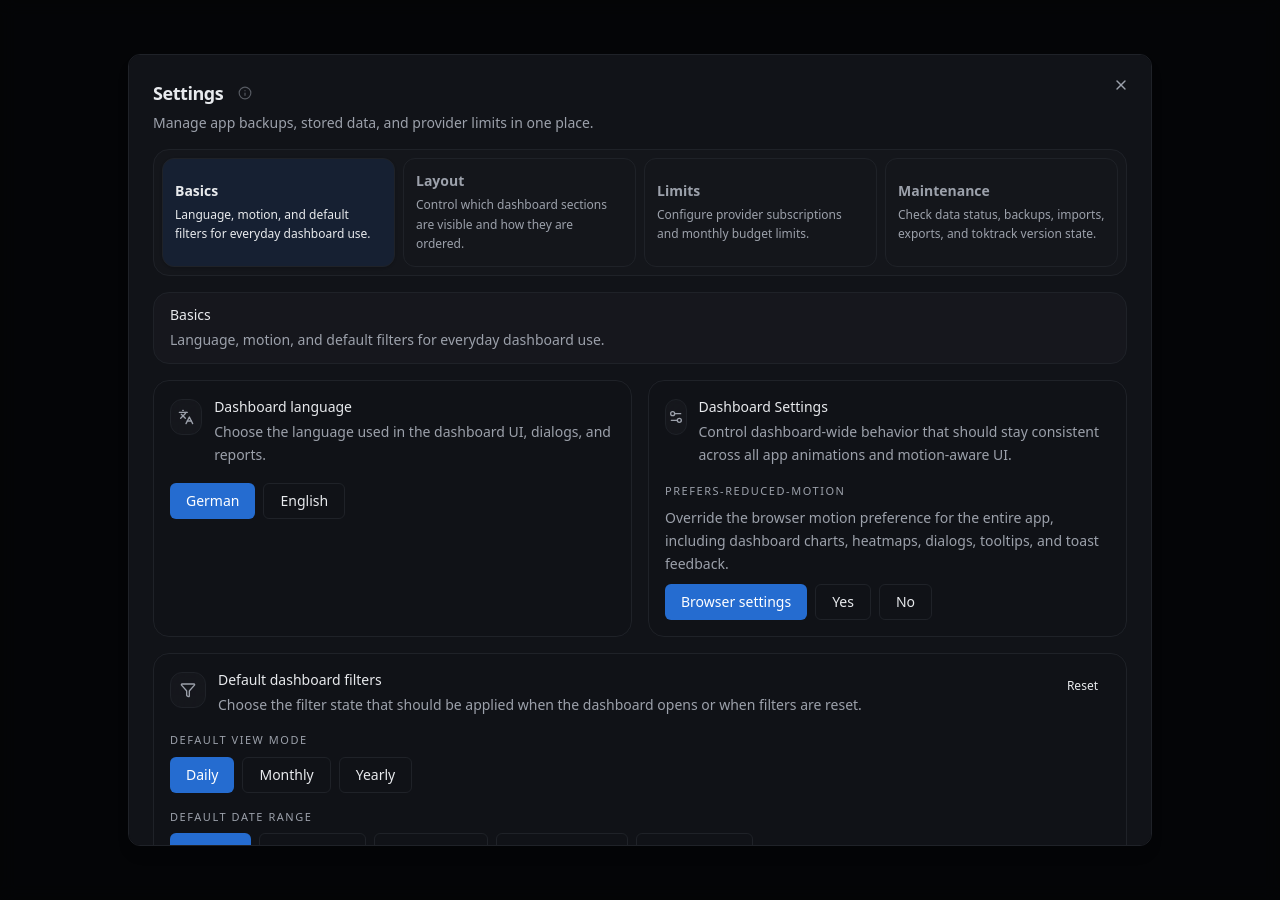
Scenario: SettingsModal provider limits › keeps subscription price typing local until blur commits the rounded value
The image size is (1280, 900).
Step 1. Click the tab "Limits" → (760, 212), box [644,158,877,266]
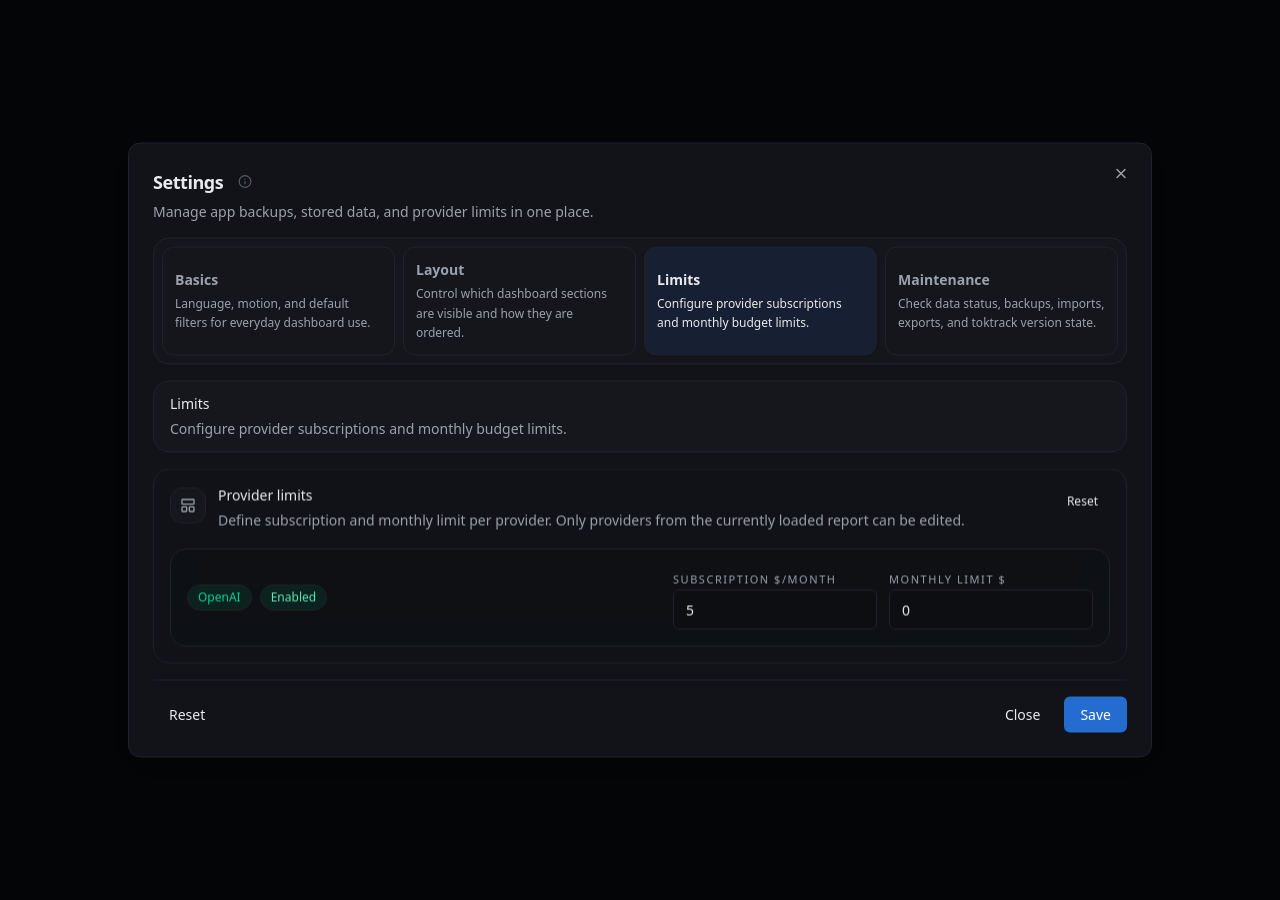
Expected: the element with test id "settings-provider-subscription-OpenAI" is shown, [170,548,1110,646]
Step 2. Replace the text in the number field with "1.234" → (775, 610), box [673,590,877,630]
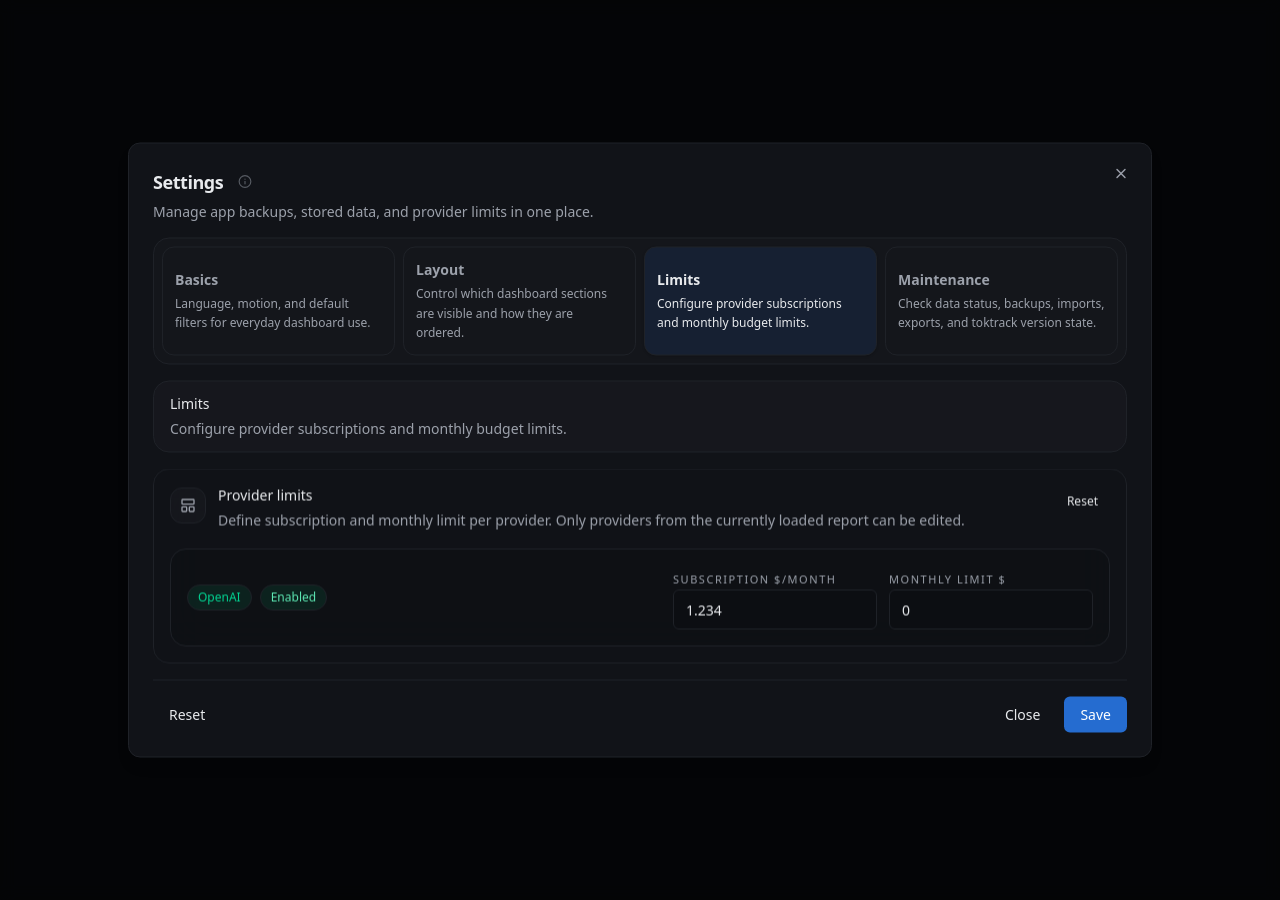
Step 3. Leave the number field, box [673,590,877,630]
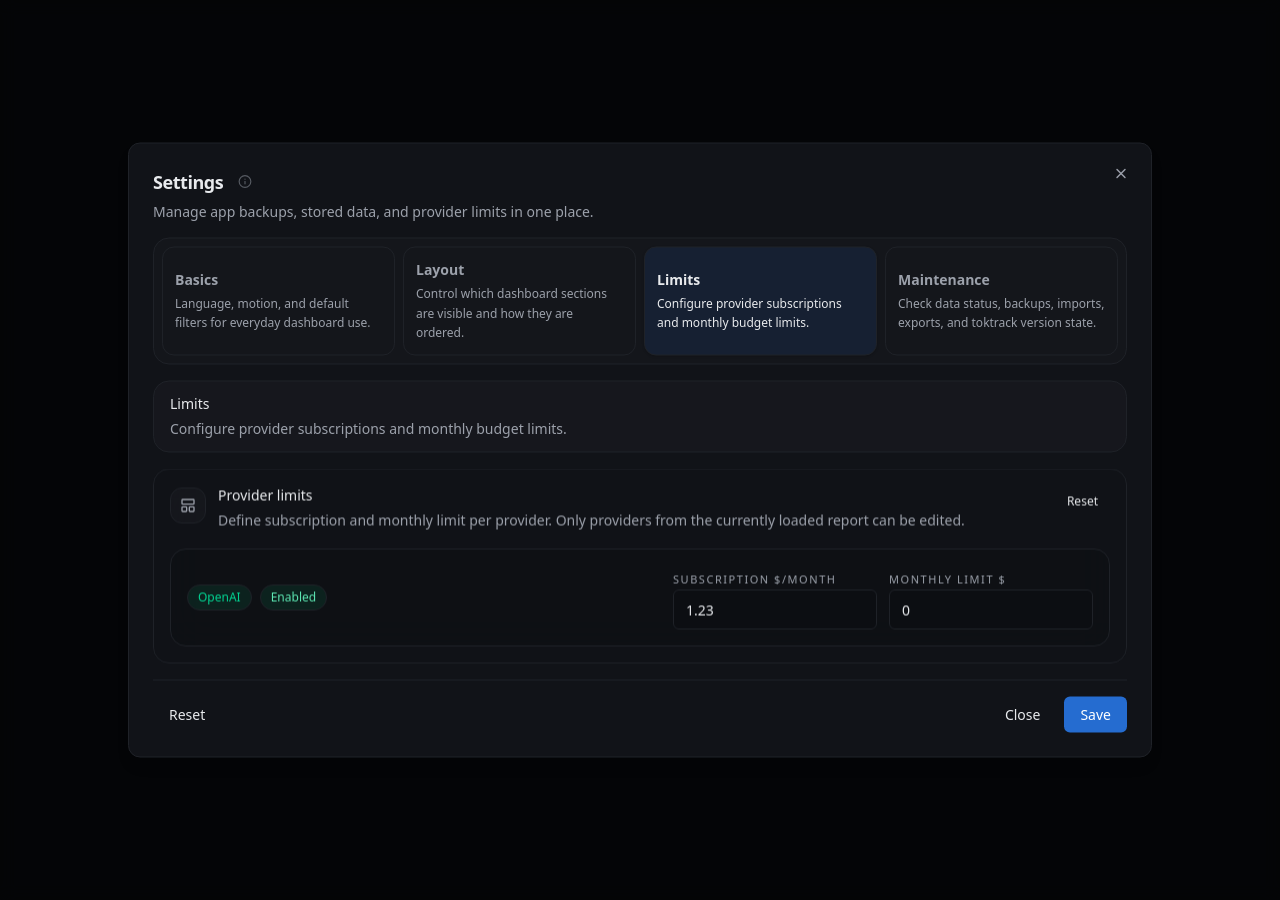
Expected: the number field holds "1.23", [673,590,877,630]
